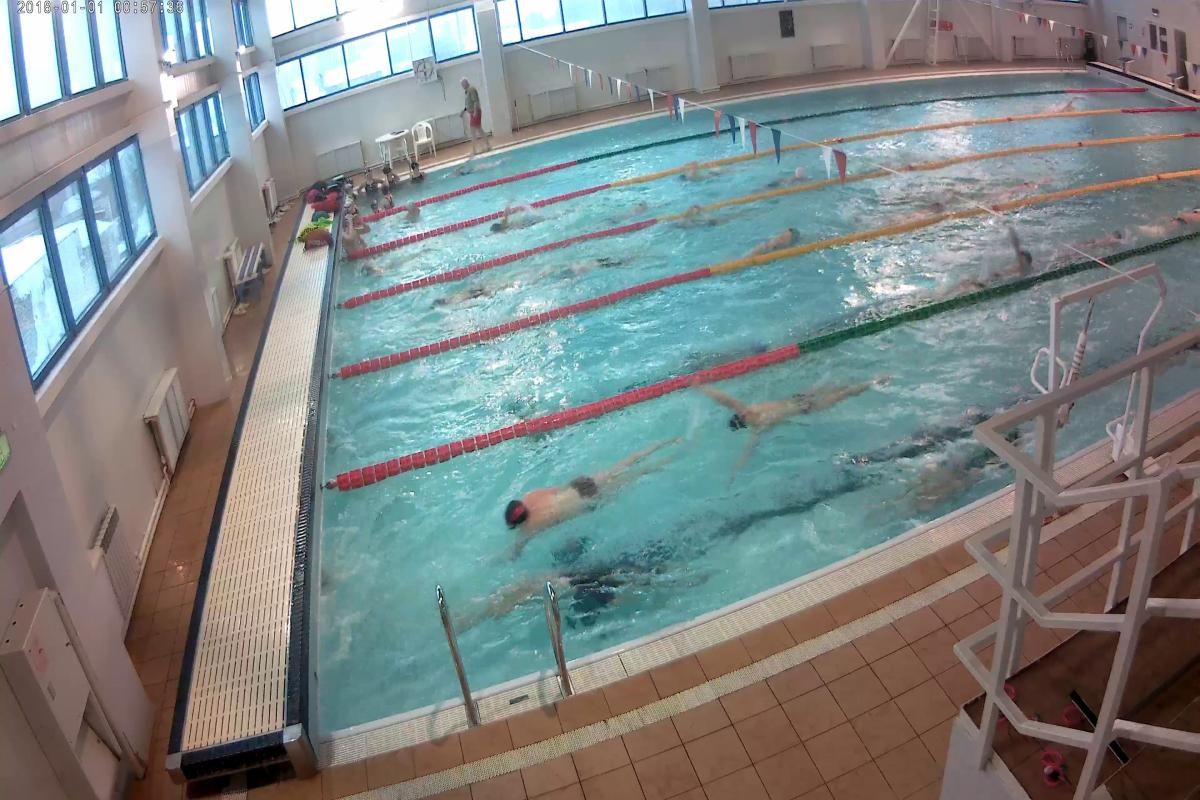swimmer: (493, 438, 678, 549), (712, 375, 868, 447), (954, 242, 1040, 286), (437, 280, 505, 314), (742, 223, 805, 258), (1148, 198, 1200, 234), (1068, 222, 1129, 248), (482, 217, 533, 245), (763, 162, 813, 190)
